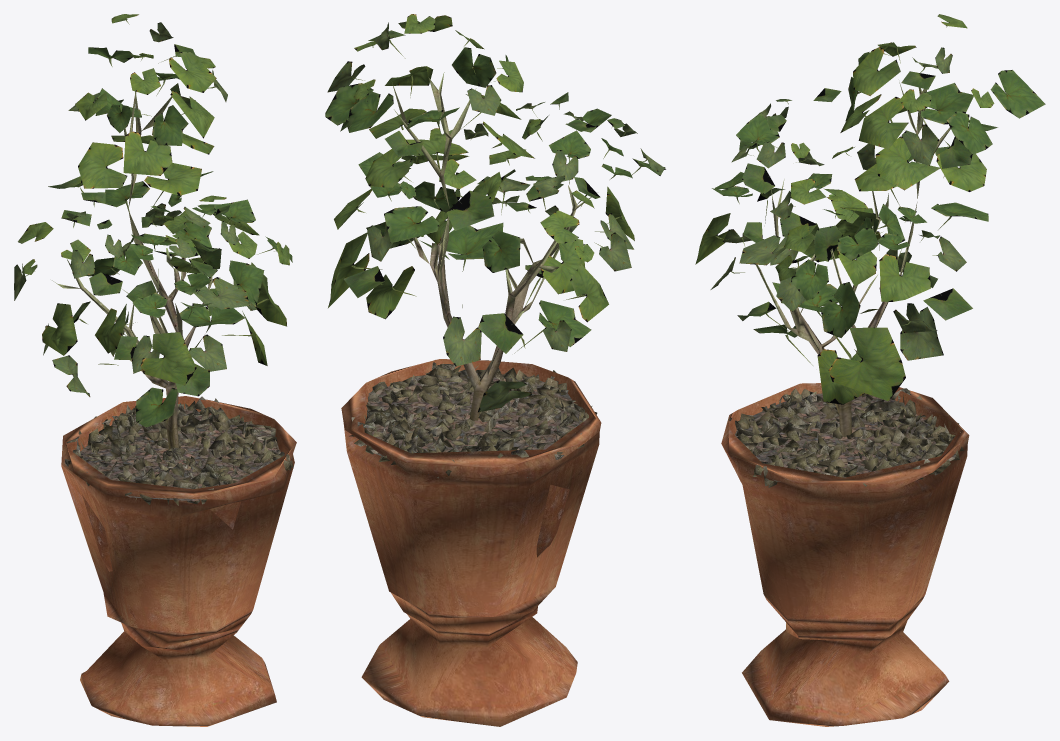
The model's file is ph-potted-plant-01-lite.glb.
3 renders of one model, left to right at view 1: azimuth 30°, elevation 25°; view 2: azimuth 150°, elevation 25°; view 3: azimuth 270°, elevation 25°, orthographic. The views are drawn at different scales.
Parts seen in each view (by area): view 1: potted_plant_01_pot, potted_plant_01_leaves, potted_plant_01_pebbles, potted_plant_01_stem; view 2: potted_plant_01_pot, potted_plant_01_leaves, potted_plant_01_pebbles, potted_plant_01_stem; view 3: potted_plant_01_pot, potted_plant_01_leaves, potted_plant_01_pebbles, potted_plant_01_stem.
Part boxes in pixels (left/top/right/bottom): potted_plant_01_pot: left=61, top=396, right=296, bottom=726; potted_plant_01_leaves: left=14, top=14, right=292, bottom=427; potted_plant_01_pebbles: left=64, top=396, right=293, bottom=505; potted_plant_01_stem: left=52, top=91, right=219, bottom=448; potted_plant_01_pot: left=341, top=359, right=601, bottom=726; potted_plant_01_leaves: left=325, top=14, right=665, bottom=412; potted_plant_01_pebbles: left=349, top=362, right=597, bottom=478; potted_plant_01_stem: left=392, top=72, right=596, bottom=420; potted_plant_01_pot: left=721, top=383, right=969, bottom=726; potted_plant_01_leaves: left=695, top=14, right=1045, bottom=404; potted_plant_01_pebbles: left=729, top=388, right=964, bottom=487; potted_plant_01_stem: left=756, top=82, right=963, bottom=437.
Size of the model in its own units: 0.5775 by 1.33 by 0.6336.
Materials: 2 (2 with a texture image).
